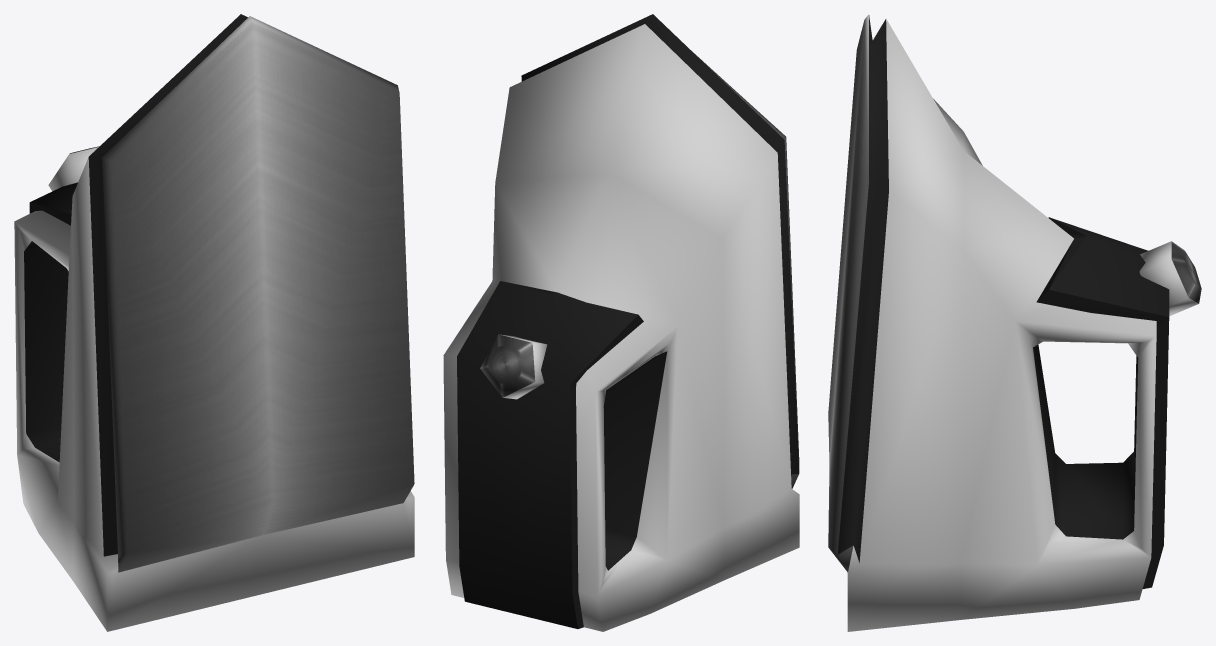
File: Iron.FBX
3 renders of one model, left to right at view 1: azimuth 30°, elevation 25°; view 2: azimuth 150°, elevation 25°; view 3: azimuth 270°, elevation 25°, orthographic. The views are drawn at different scales.
Parts seen in each view (by area): view 1: Iron; view 2: Iron; view 3: Iron.
Boxes of the visible parts, x1=… form: Iron: x1=14, y1=14, x2=414, y2=631; Iron: x1=443, y1=14, x2=799, y2=631; Iron: x1=828, y1=14, x2=1201, y2=631.
Bounding box in the file's own units: 30 × 53.22 × 32.97.
